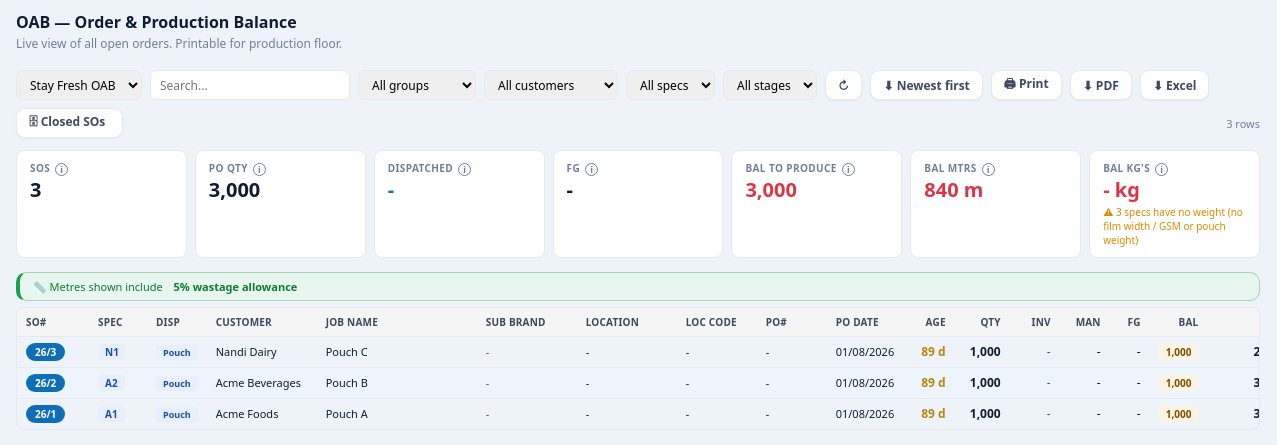
Test: OAB board — filter by group, and narrow what follows › still filters the rows themselves by group, not just the dropdowns
Expected: the text "Pouch A" is shown, [317,398,477,429]
Select "NANDI" in the dropdown named "Filter by group" at (417, 85), box [358,70,476,100]
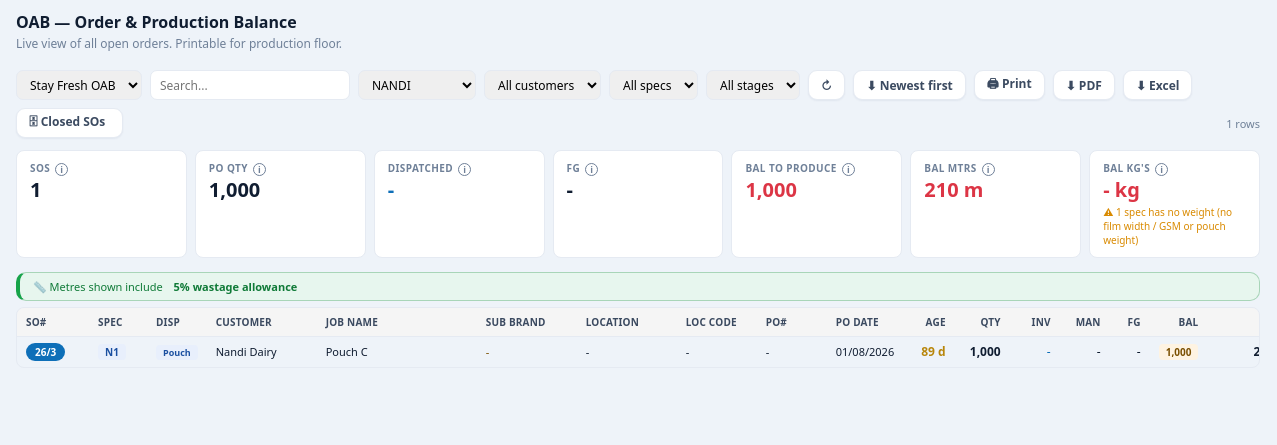
Expected: the text "Pouch C" is shown, [317,336,477,367]
Now the text "Pouch A" is gone
Now the text "Pouch B" is gone
